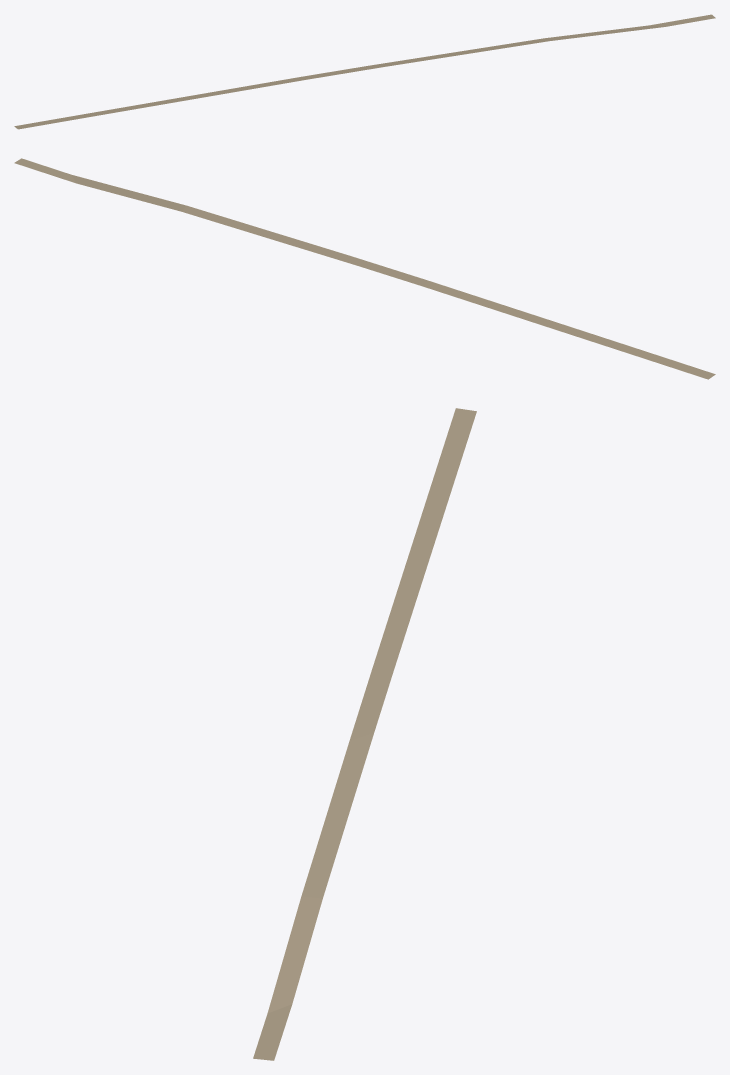
Rendered from farm_-52_-44_track.glb.
3 renders of one model, top to bottom at view 1: azimuth 30°, elevation 25°; view 2: azimuth 150°, elevation 25°; view 3: azimuth 270°, elevation 25°, orthographic. The views are drawn at different scales.
Parts seen in each view (by area): view 1: geometry_0; view 2: geometry_0; view 3: geometry_0.
Boxes of the visible parts, bbox=[...] form: geometry_0: bbox=[14, 14, 715, 129]; geometry_0: bbox=[14, 158, 715, 379]; geometry_0: bbox=[253, 408, 476, 1060].
Bounding box in the file's own units: 230 × 3.39 × 34.39.
